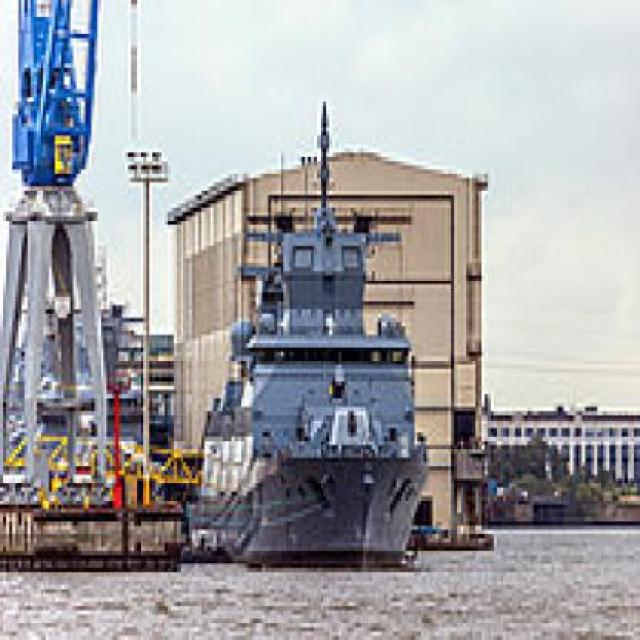warship2: (189, 99, 425, 565)
